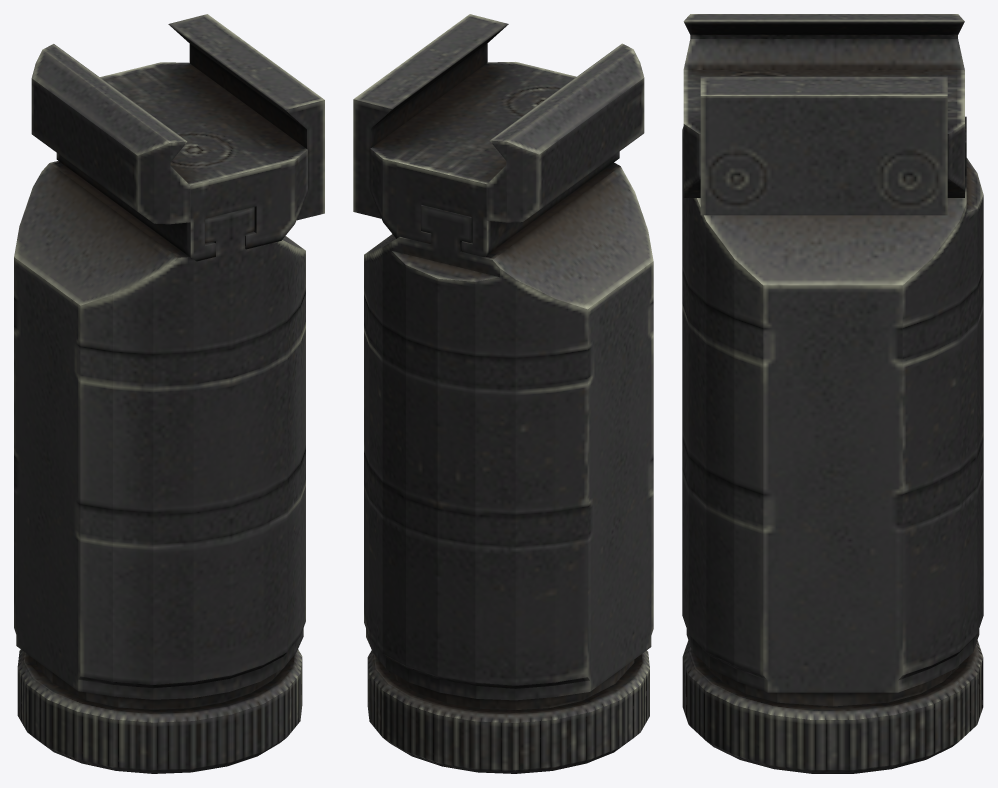
The picture shows the model from 3 angles, left to right: view 1: azimuth 30°, elevation 25°; view 2: azimuth 150°, elevation 25°; view 3: azimuth 270°, elevation 25°; orthographic projection. The views are drawn at different scales.
Parts seen in each view (by area): view 1: TW_5c1bc7432e221602b412949d_PZ_Import; view 2: TW_5c1bc7432e221602b412949d_PZ_Import; view 3: TW_5c1bc7432e221602b412949d_PZ_Import.
Boxes of the visible parts, box(x1,y1,x2,y2) form: TW_5c1bc7432e221602b412949d_PZ_Import: box(14, 14, 324, 773); TW_5c1bc7432e221602b412949d_PZ_Import: box(353, 14, 653, 773); TW_5c1bc7432e221602b412949d_PZ_Import: box(682, 14, 983, 773).
Bounding box in the file's own units: 0.0209 × 0.0211 × 0.052.
Materials: 1 (1 with a texture image).
